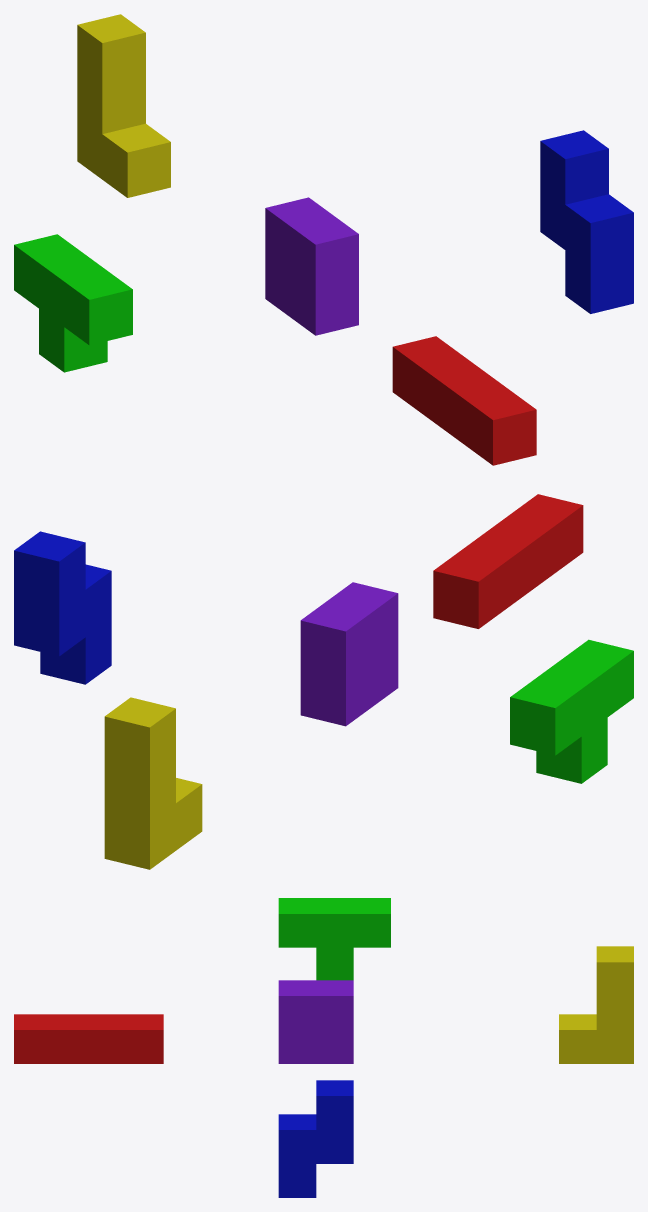
File: tetris.obj
3 renders of one model, top to bottom at view 1: azimuth 30°, elevation 25°; view 2: azimuth 150°, elevation 25°; view 3: azimuth 270°, elevation 25°, orthographic. The views are drawn at different scales.
Visible parts, largest first — view 1: LShape_Cube.001, stairs_Cube.002, TShape_Cube.003, bar_Cube, square_Cube.004; view 2: LShape_Cube.001, stairs_Cube.002, TShape_Cube.003, bar_Cube, square_Cube.004; view 3: bar_Cube, TShape_Cube.003, stairs_Cube.002, square_Cube.004, LShape_Cube.001.
Boxes of the visible parts, bbox=[...] form: LShape_Cube.001: bbox=[77, 14, 170, 197]; stairs_Cube.002: bbox=[540, 130, 633, 313]; TShape_Cube.003: bbox=[14, 234, 132, 372]; bar_Cube: bbox=[392, 336, 536, 465]; square_Cube.004: bbox=[265, 197, 358, 335]; LShape_Cube.001: bbox=[104, 697, 202, 869]; stairs_Cube.002: bbox=[14, 531, 111, 684]; TShape_Cube.003: bbox=[510, 639, 633, 783]; bar_Cube: bbox=[433, 494, 583, 628]; square_Cube.004: bbox=[300, 582, 398, 726]; bar_Cube: bbox=[14, 1014, 163, 1063]; TShape_Cube.003: bbox=[278, 898, 390, 980]; stairs_Cube.002: bbox=[278, 1080, 353, 1197]; square_Cube.004: bbox=[278, 980, 353, 1063]; LShape_Cube.001: bbox=[559, 946, 633, 1063].
Size of the model in its own units: 25.04 by 8 by 33.12.
